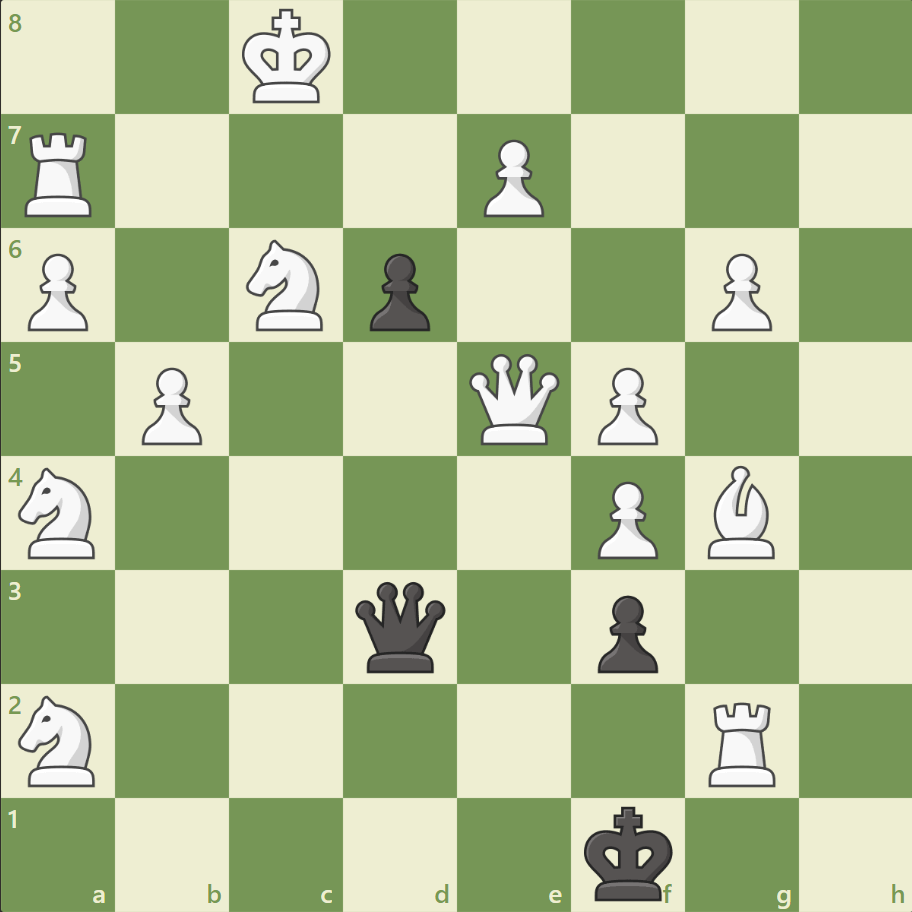B: (698, 460, 782, 563)
K: (238, 4, 338, 112)
N: (238, 234, 335, 337), (11, 461, 108, 564), (11, 688, 108, 791)
P: (474, 132, 549, 223), (20, 246, 95, 337), (701, 246, 776, 337), (133, 359, 208, 450), (588, 359, 662, 450), (588, 473, 662, 564)
Q: (464, 349, 563, 449)
R: (19, 125, 102, 222), (700, 693, 783, 790)
k: (579, 798, 679, 906)
p: (361, 246, 435, 337), (588, 586, 662, 677)
q: (351, 576, 450, 676)
